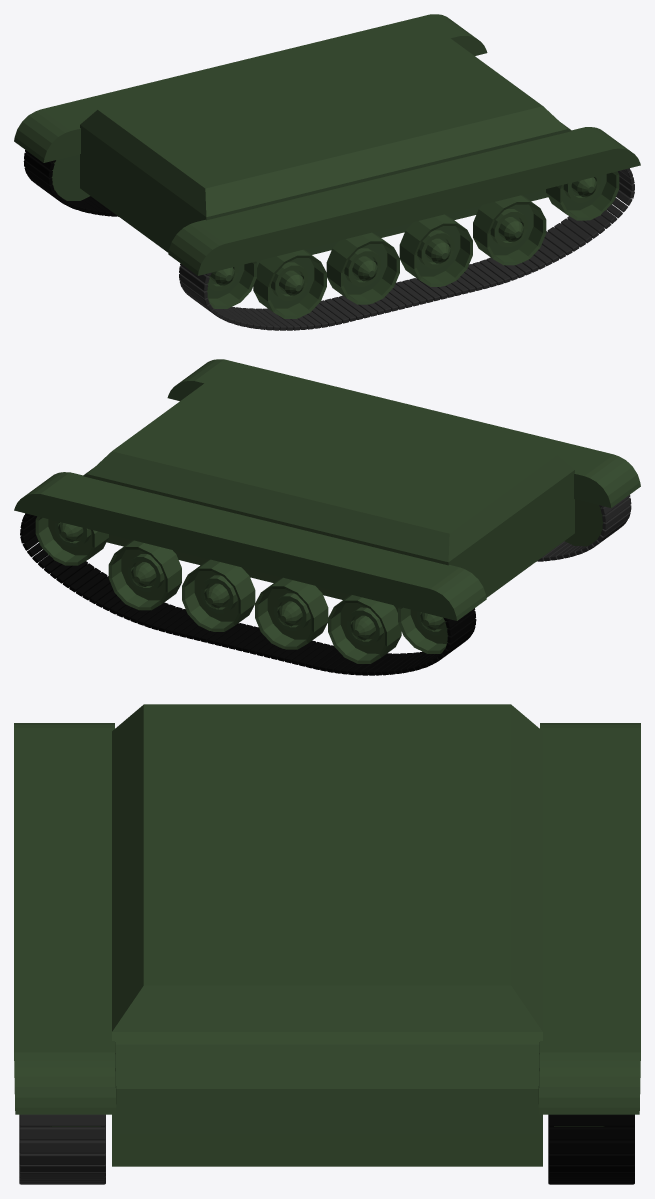
The model's file is GREEN FINISHED TANK BODY.fbx.
3 renders of one model, top to bottom at view 1: azimuth 30°, elevation 25°; view 2: azimuth 150°, elevation 25°; view 3: azimuth 270°, elevation 25°, orthographic. The views are drawn at different scales.
Visible parts, largest first — view 1: Cube, Plane, Cube R, Cylinder.006, Cylinder.005, Cylinder.007, Cylinder.004, Cylinder.003, Cylinder.008, Cube L; view 2: Cube, Plane, Cube L, Cylinder.006, Cylinder.005, Cylinder.007, Cylinder.004, Cylinder.003, Cylinder.008, Cube R; view 3: Cube, Plane, Cube L, Cube R.
Boxes of the visible parts, left/top/right/bottom form: Cube: left=80, top=27, right=571, bottom=267; Plane: left=14, top=14, right=640, bottom=275; Cube R: left=179, top=168, right=634, bottom=330; Cylinder.006: left=399, top=214, right=472, bottom=286; Cylinder.005: left=326, top=232, right=399, bottom=304; Cylinder.007: left=473, top=195, right=546, bottom=265; Cylinder.004: left=253, top=249, right=326, bottom=318; Cylinder.003: left=51, top=154, right=256, bottom=308; Cylinder.008: left=546, top=171, right=619, bottom=220; Cube L: left=23, top=150, right=118, bottom=216; Cube: left=83, top=372, right=574, bottom=612; Plane: left=14, top=359, right=640, bottom=620; Cube L: left=20, top=513, right=476, bottom=675; Cylinder.006: left=182, top=559, right=255, bottom=631; Cylinder.005: left=255, top=577, right=328, bottom=649; Cylinder.007: left=108, top=540, right=181, bottom=610; Cylinder.004: left=328, top=594, right=401, bottom=663; Cylinder.003: left=398, top=499, right=603, bottom=653; Cylinder.008: left=35, top=516, right=108, bottom=565; Cube R: left=536, top=495, right=631, bottom=561; Cube: left=112, top=704, right=542, bottom=1166; Plane: left=14, top=723, right=640, bottom=1114; Cube L: left=548, top=1114, right=634, bottom=1184; Cube R: left=19, top=1114, right=105, bottom=1184.
Size of the model in its own units: 607 by 174 by 436.
